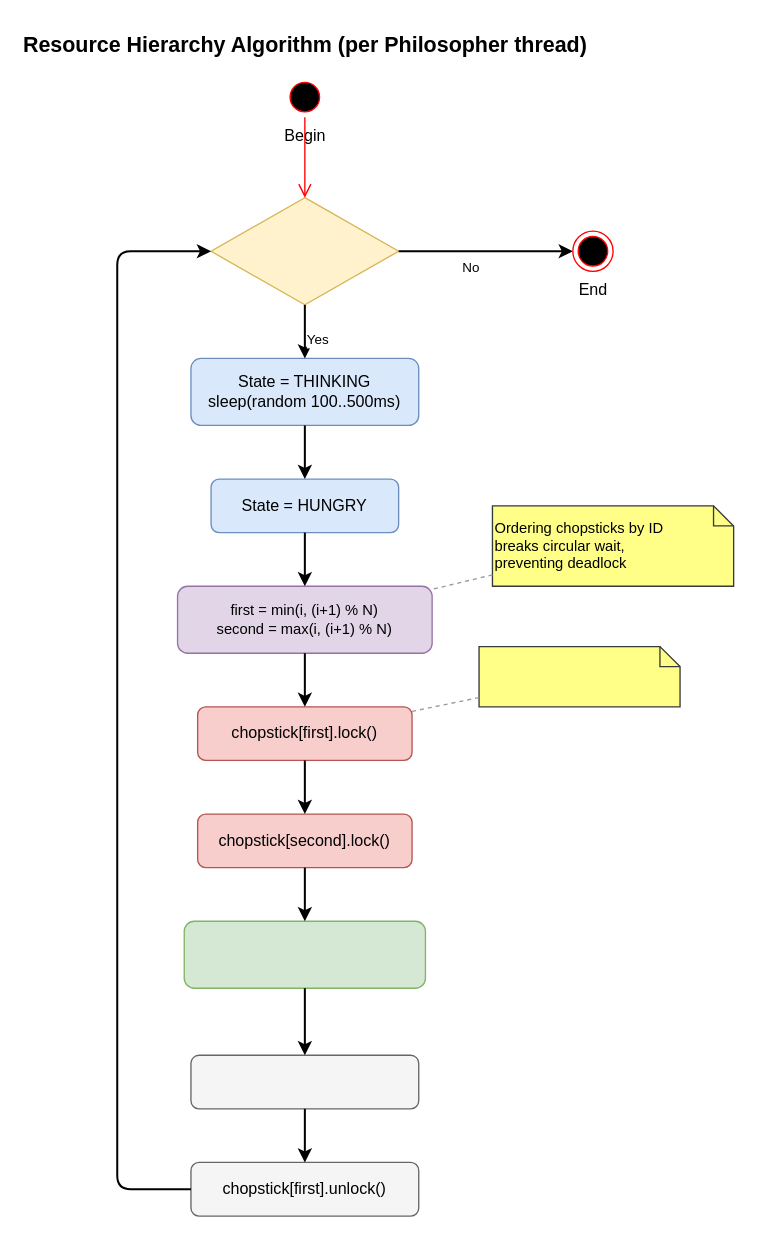
The diagram is 757 pixels wide and 1240 high, and some of its shapes have lost their labels. Each missing label, with the centre of its shape:
Blocks here until lock is available: the point at 579,676
chopstick[second].unlock(): the point at 304,1081
cyclesCompleted < targetCycles?: the point at 304,250
State = EATING sleep(random 100..500ms): the point at 304,954
